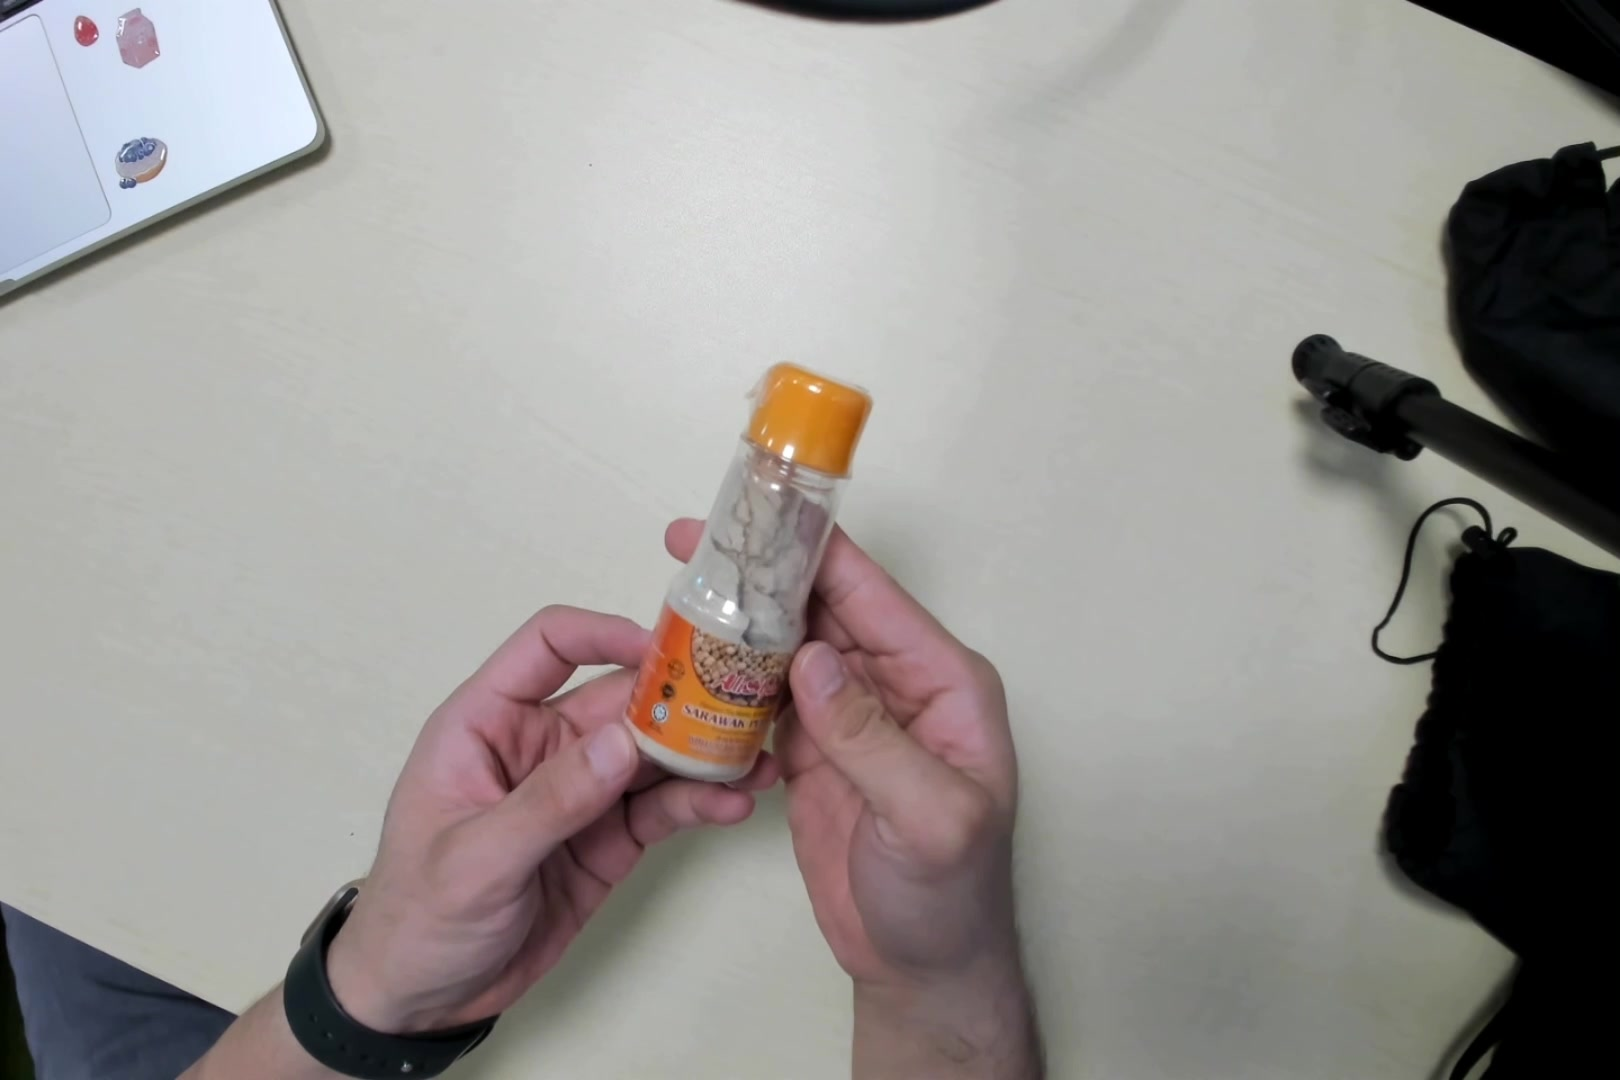HeabsSpicesPepper_0-99g_NonHalal_NonHealthy: (626, 358, 867, 791)
